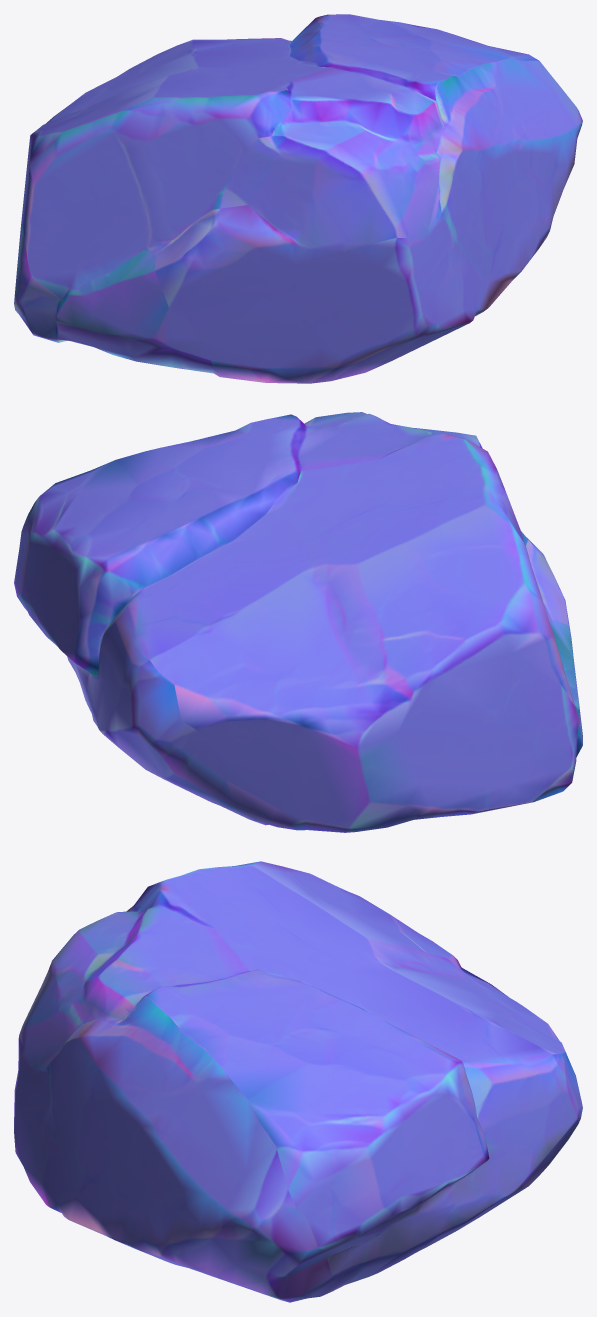
The model's file is Boulder02.fbx.
The picture shows the model from 3 angles, top to bottom: view 1: azimuth 30°, elevation 25°; view 2: azimuth 150°, elevation 25°; view 3: azimuth 270°, elevation 25°; orthographic projection. The views are drawn at different scales.
Visible parts, largest first — view 1: Boulder02_LOD0; view 2: Boulder02_LOD0; view 3: Boulder02_LOD0.
Boxes of the visible parts, bbox=[...] form: Boulder02_LOD0: bbox=[14, 14, 582, 383]; Boulder02_LOD0: bbox=[14, 412, 582, 832]; Boulder02_LOD0: bbox=[14, 861, 582, 1302].
Size of what is drawn, in the model's own units: 218 by 104 by 185.
